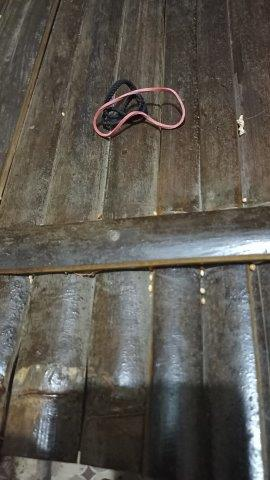karet: (93, 79, 186, 137)
